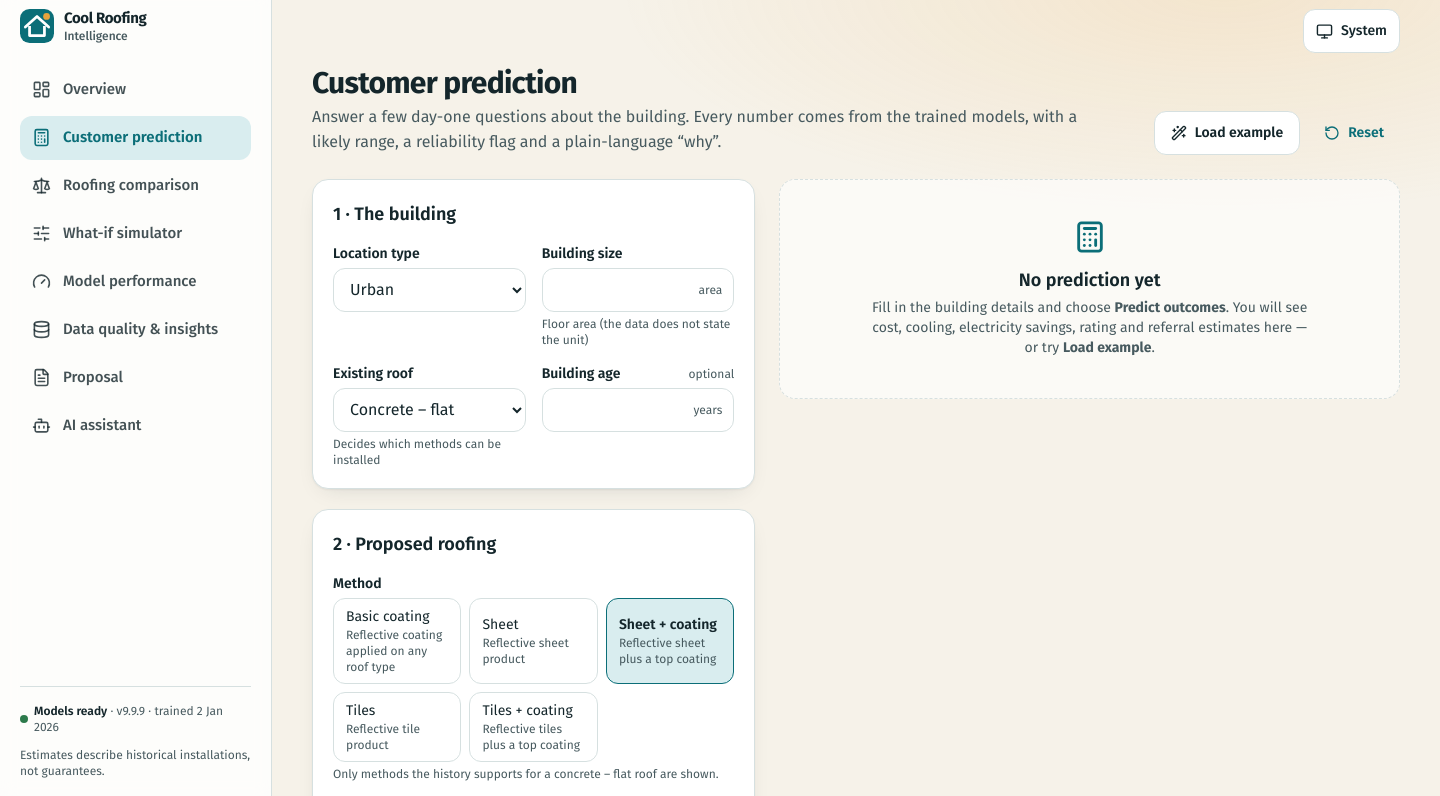
it: customer prediction › validates inputs: required size, out-of-range values, and focuses an error summary
This screenshot has width=1440, height=796.
Expected: the text "No prediction yet" is shown, [1019, 266, 1160, 294]
Type "250" into the number field labelled "Building age optional" at (638, 410), box [542, 388, 734, 432]
(page scrolled)
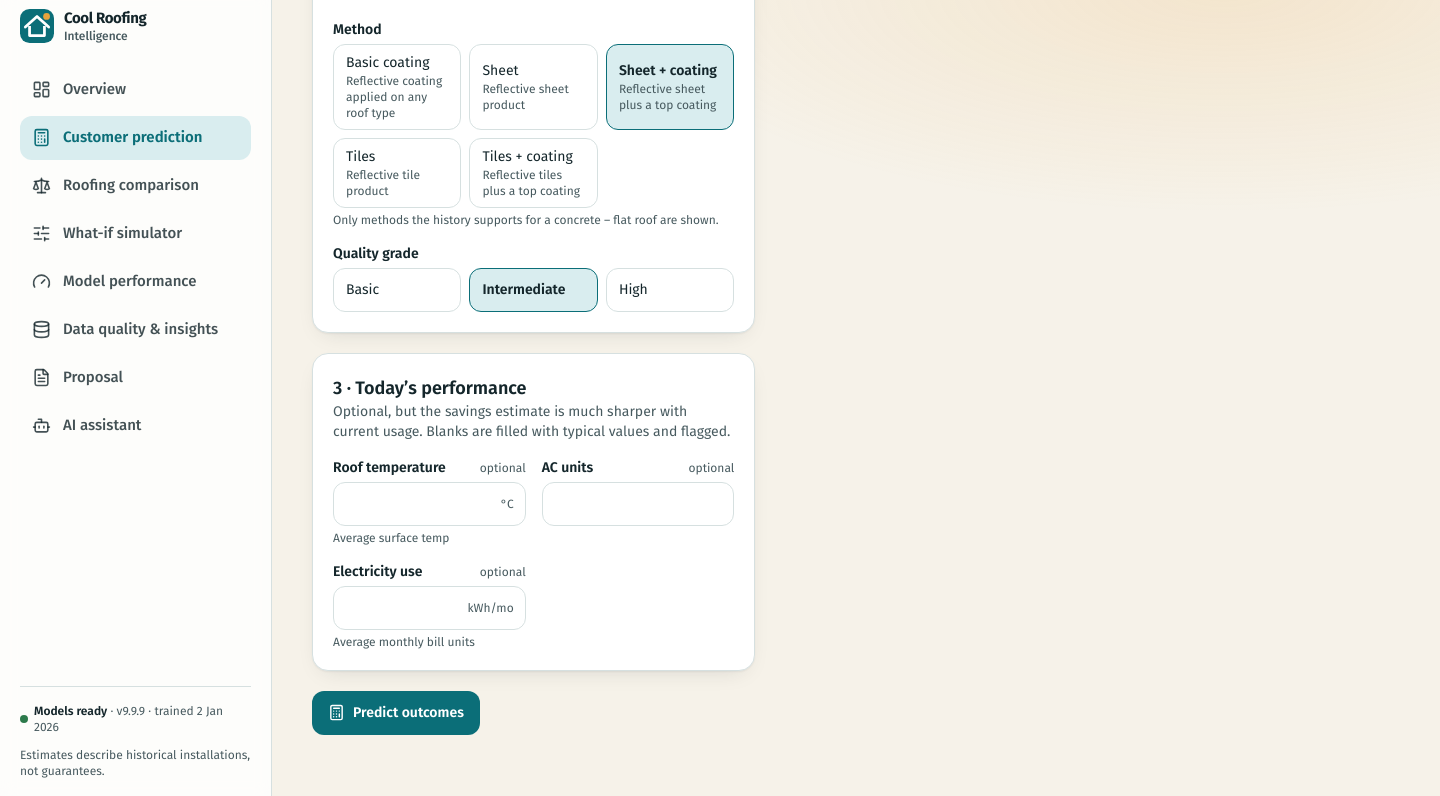
Click the button "Predict outcomes" at (396, 713), box [312, 691, 480, 735]
(page scrolled)
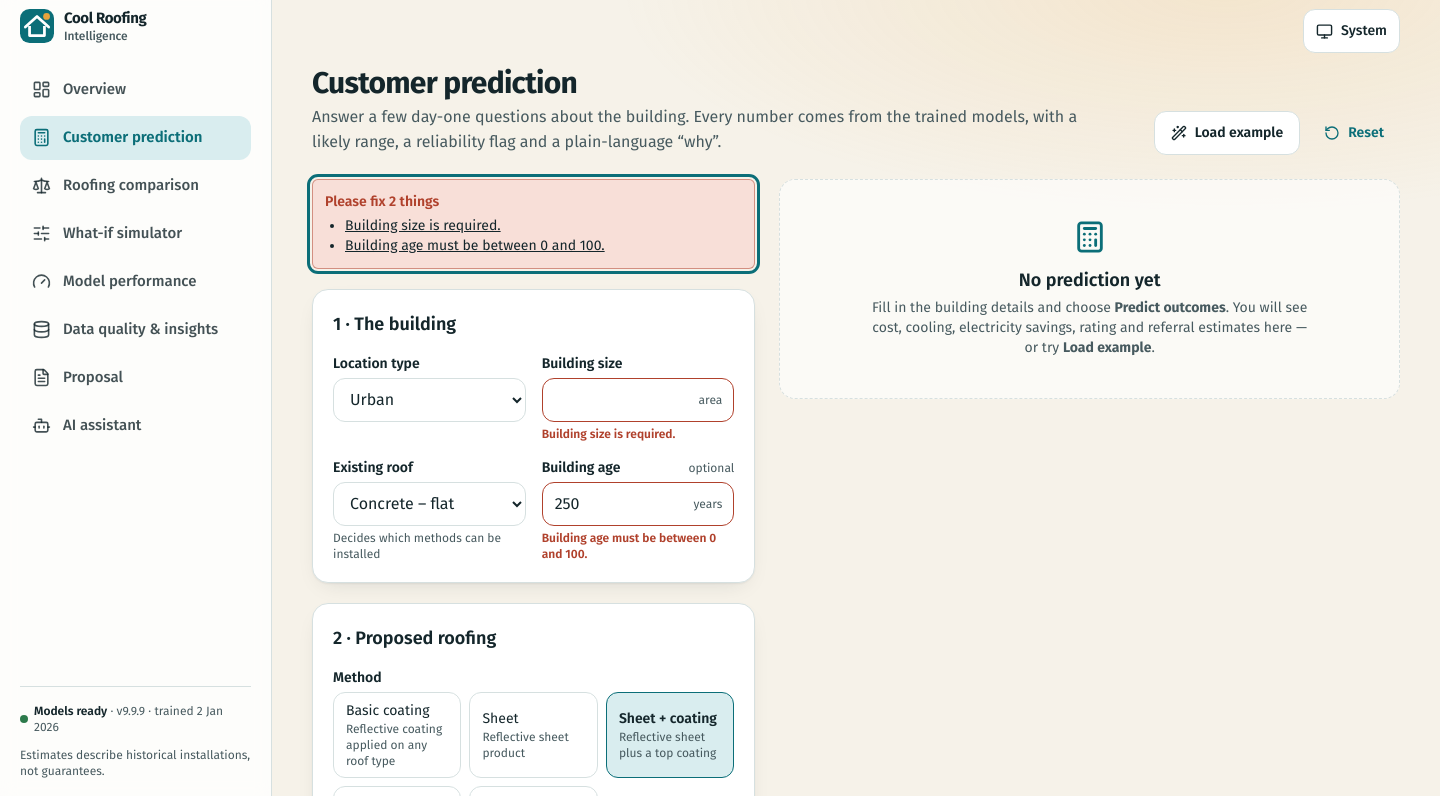
Now the link "Building size is required." is shown, box [345, 217, 501, 234]
Now the link "Building age must be between 0 and 100." is shown, box [345, 237, 605, 254]
